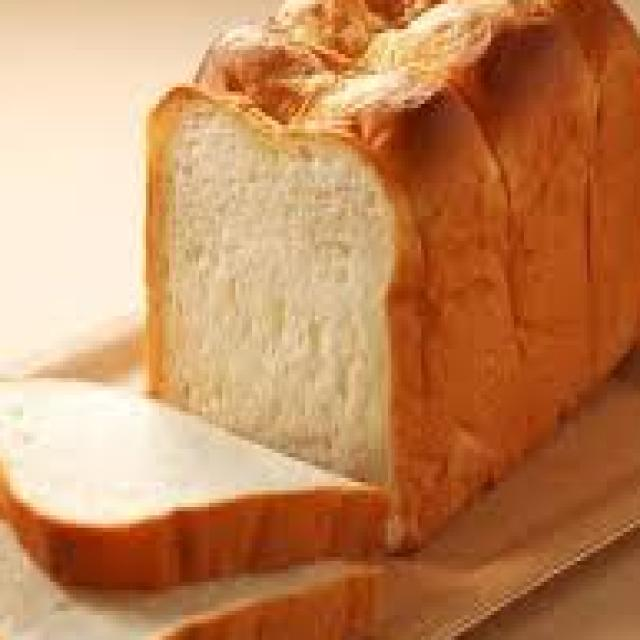inorganic: (7, 11, 623, 579)
